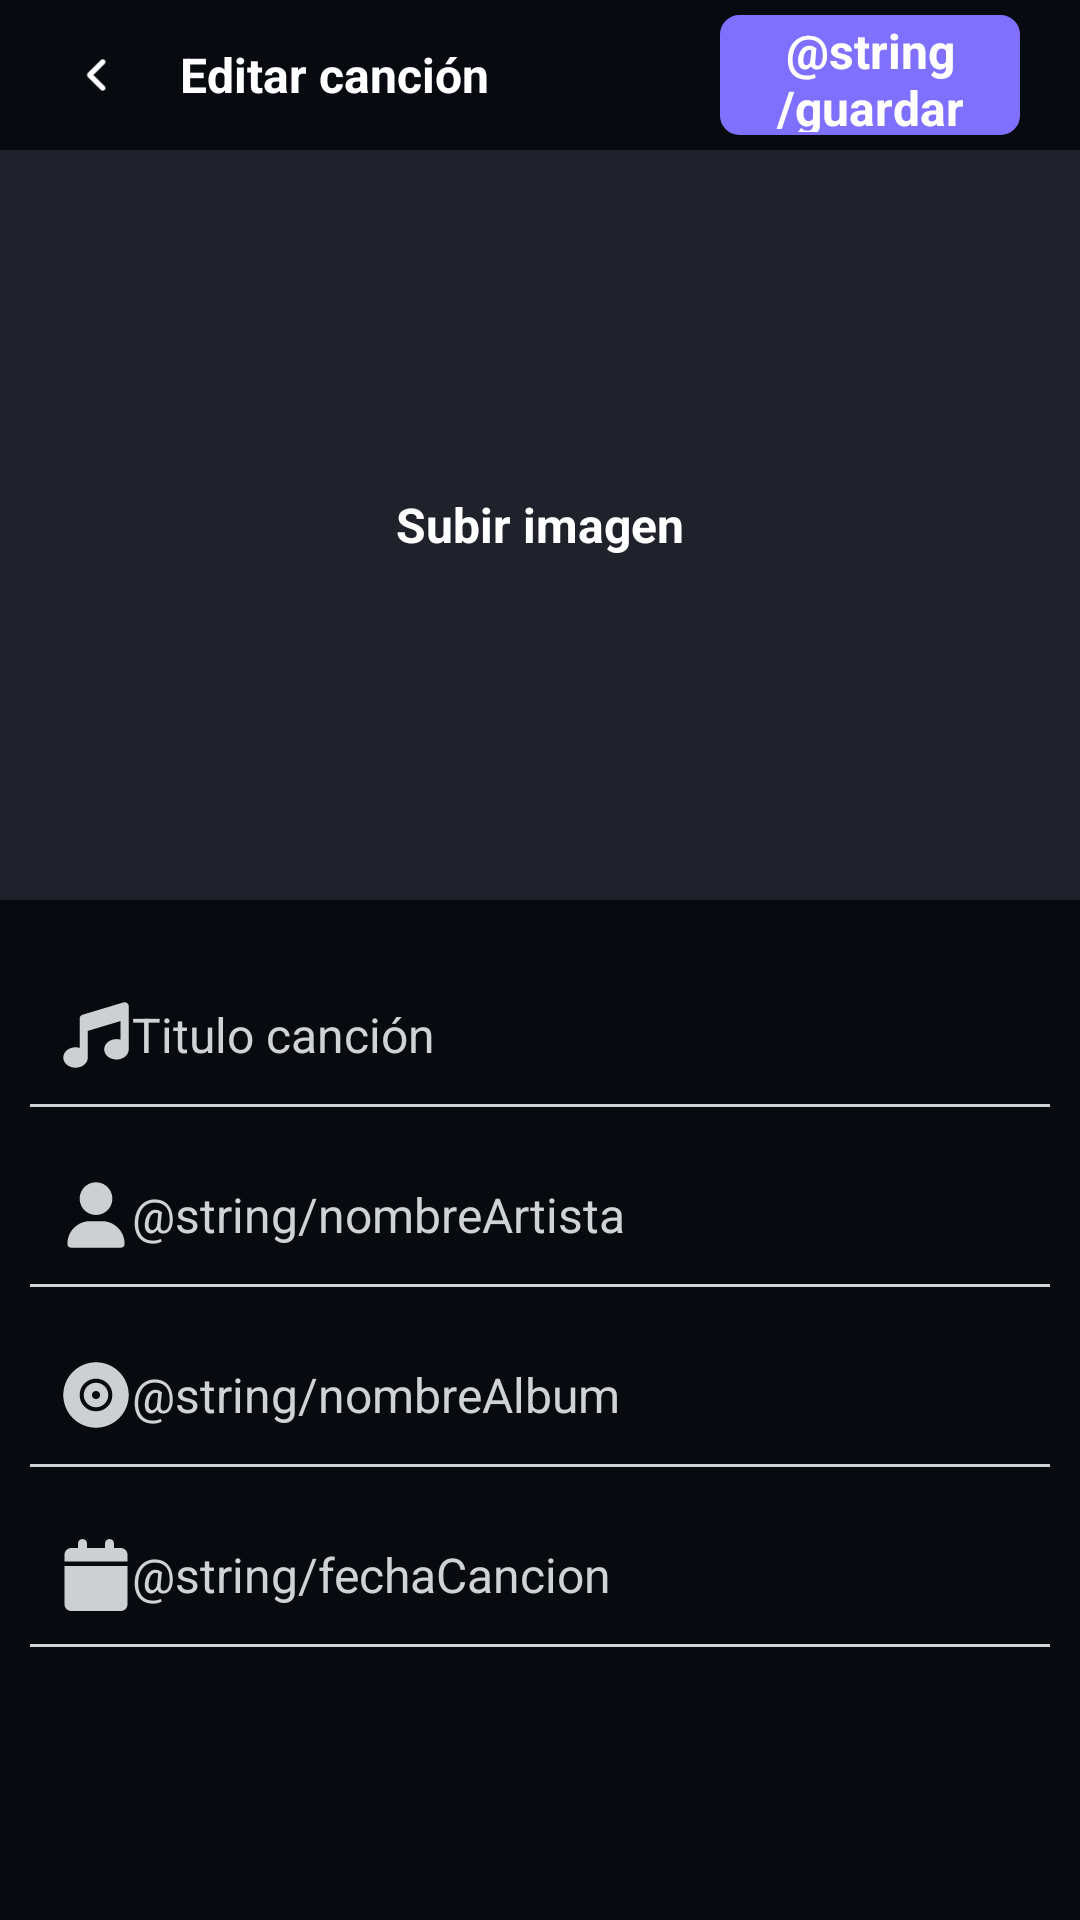

Named icons in this screenshot (1080 × 1920) and their centers, (x,y):
angle left: (96,75)
